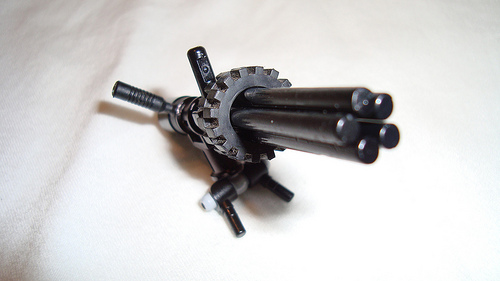rifle: (107, 32, 427, 228)
